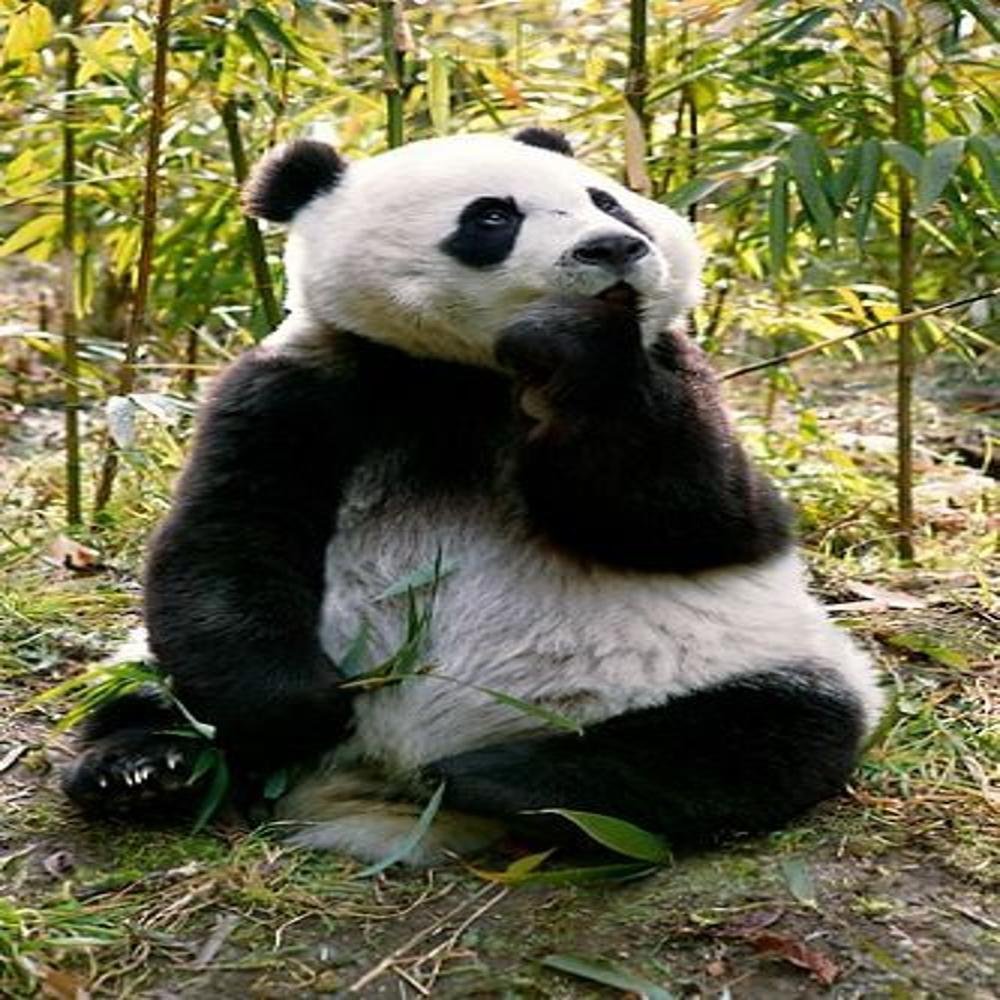panda: (88, 123, 890, 860)
